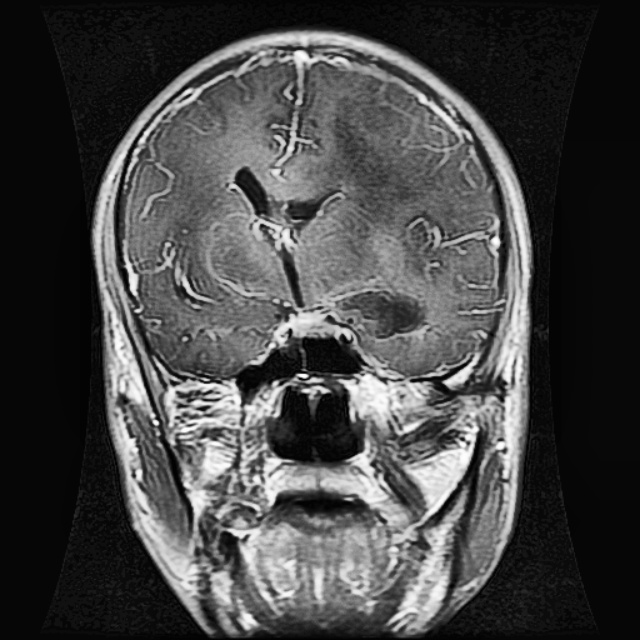Meningioma: (328, 289, 425, 340)
